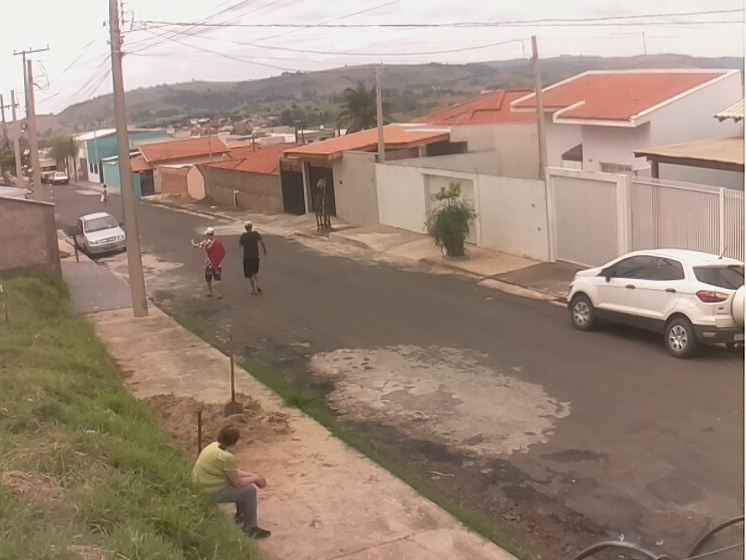person: (189, 423, 270, 538), (188, 228, 227, 300), (237, 219, 269, 296)
